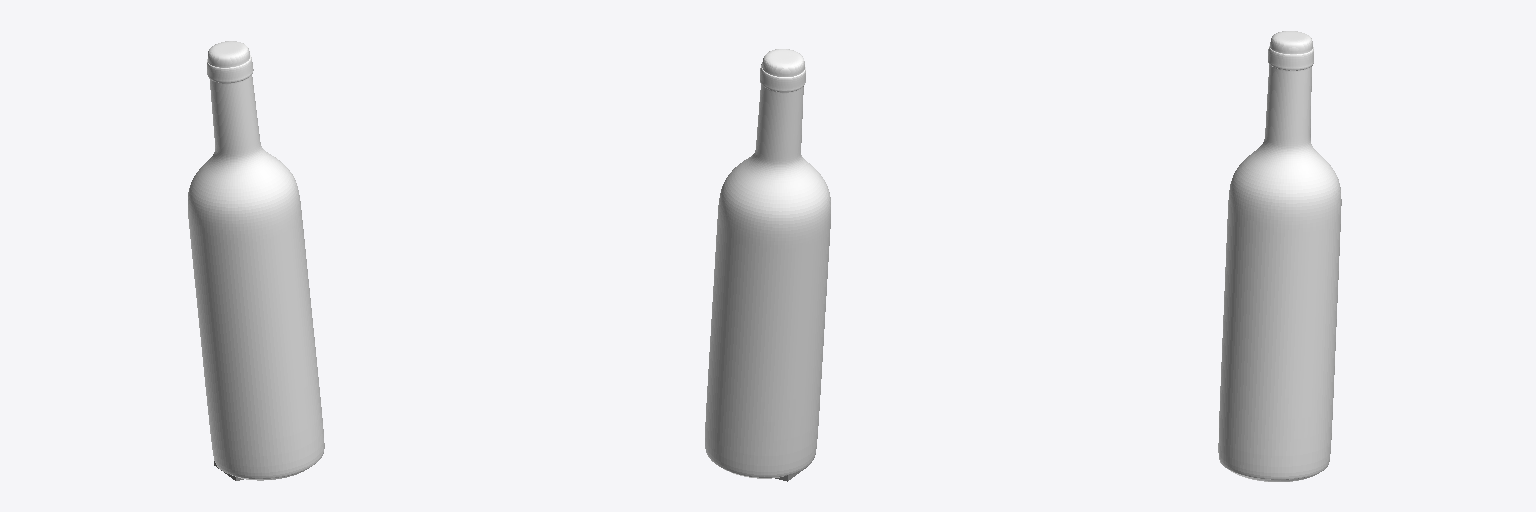
File: Bread.obj
3 renders of one model, left to right at view 1: azimuth 30°, elevation 25°; view 2: azimuth 150°, elevation 25°; view 3: azimuth 270°, elevation 25°, orthographic.
Visible parts, largest first — view 1: 14042_750_mL_Wine_Bottle; view 2: 14042_750_mL_Wine_Bottle; view 3: 14042_750_mL_Wine_Bottle.
Boxes of the visible parts, <box> form: 14042_750_mL_Wine_Bottle: <box>188,41,324,480</box>; 14042_750_mL_Wine_Bottle: <box>705,49,830,478</box>; 14042_750_mL_Wine_Bottle: <box>1218,31,1341,481</box>.
Size of the model in its own units: 6.17 by 21.24 by 5.64.